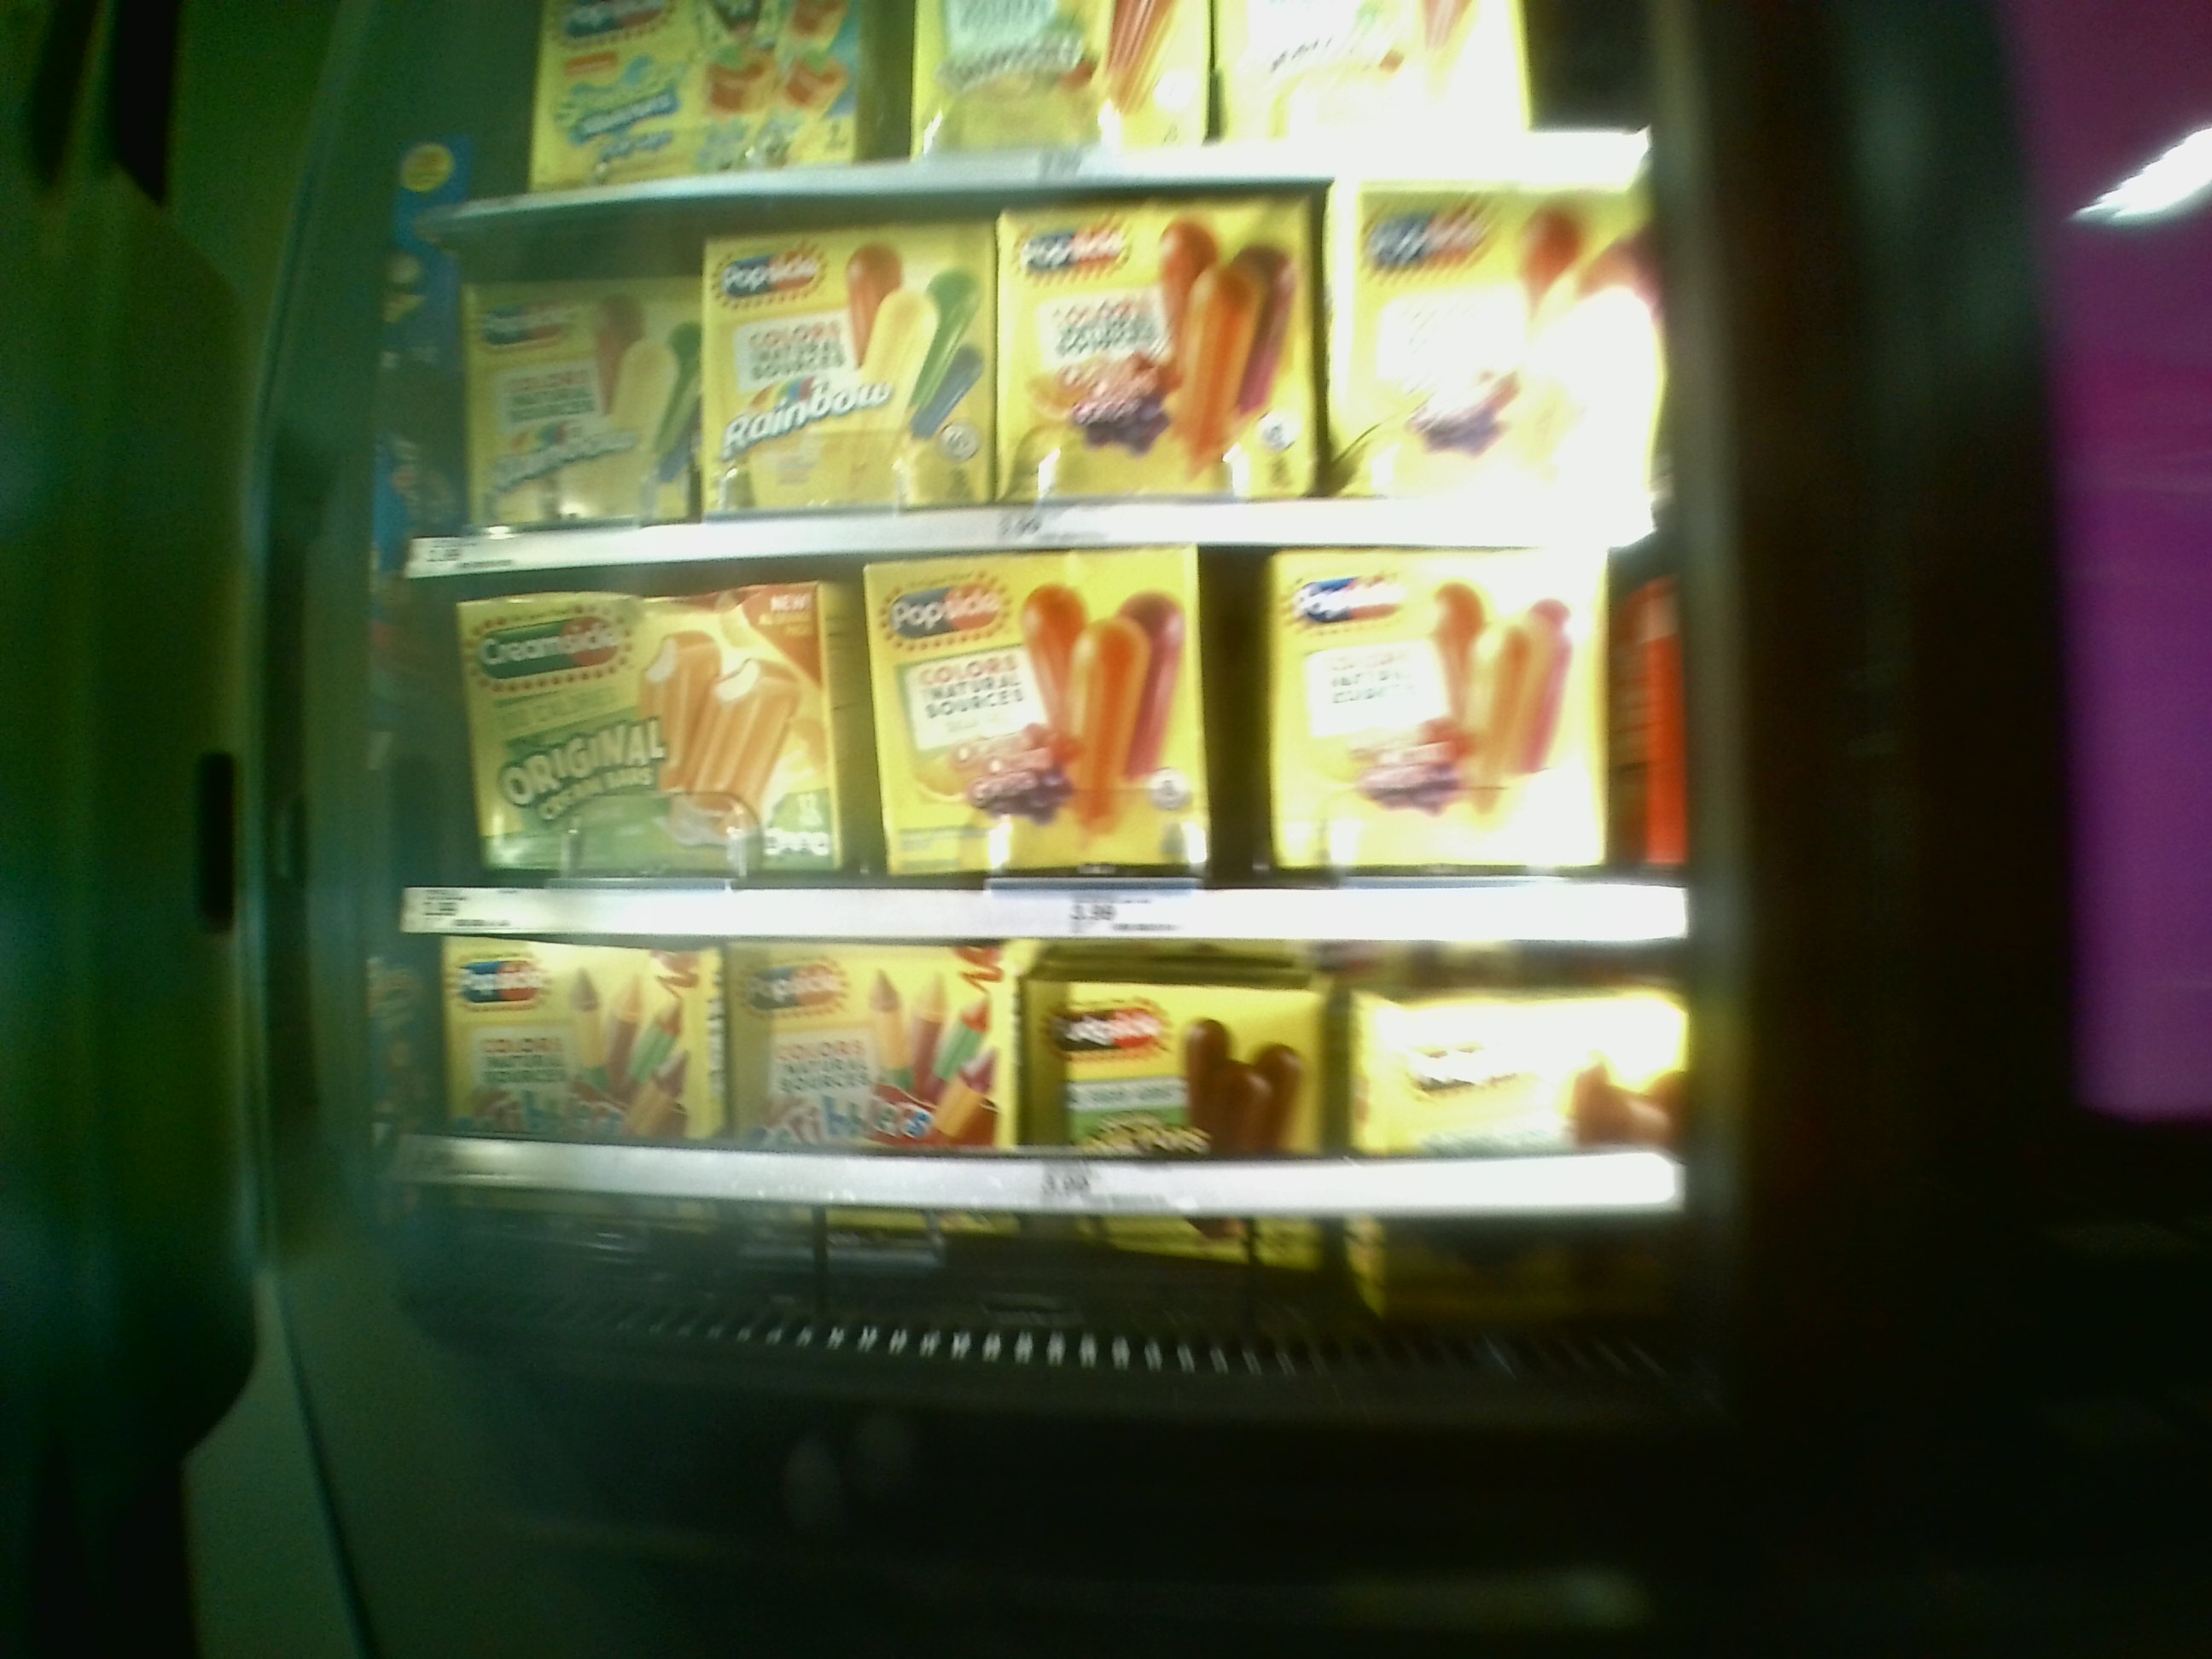frozen-food-shelf: (392, 575, 1695, 943), (380, 943, 1703, 1215)
